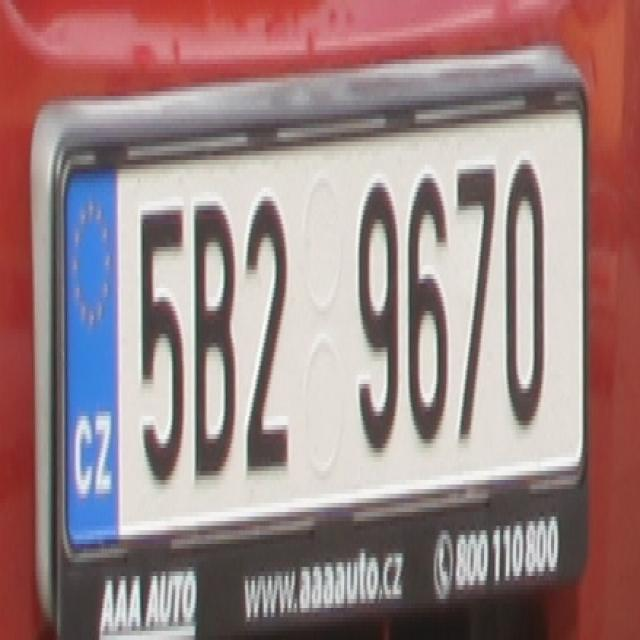0: (504, 160, 546, 425)
2: (244, 192, 288, 466)
5: (137, 201, 184, 485)
6: (407, 169, 448, 434)
7: (456, 160, 499, 443)
9: (354, 169, 398, 444)
B: (191, 201, 238, 476)
